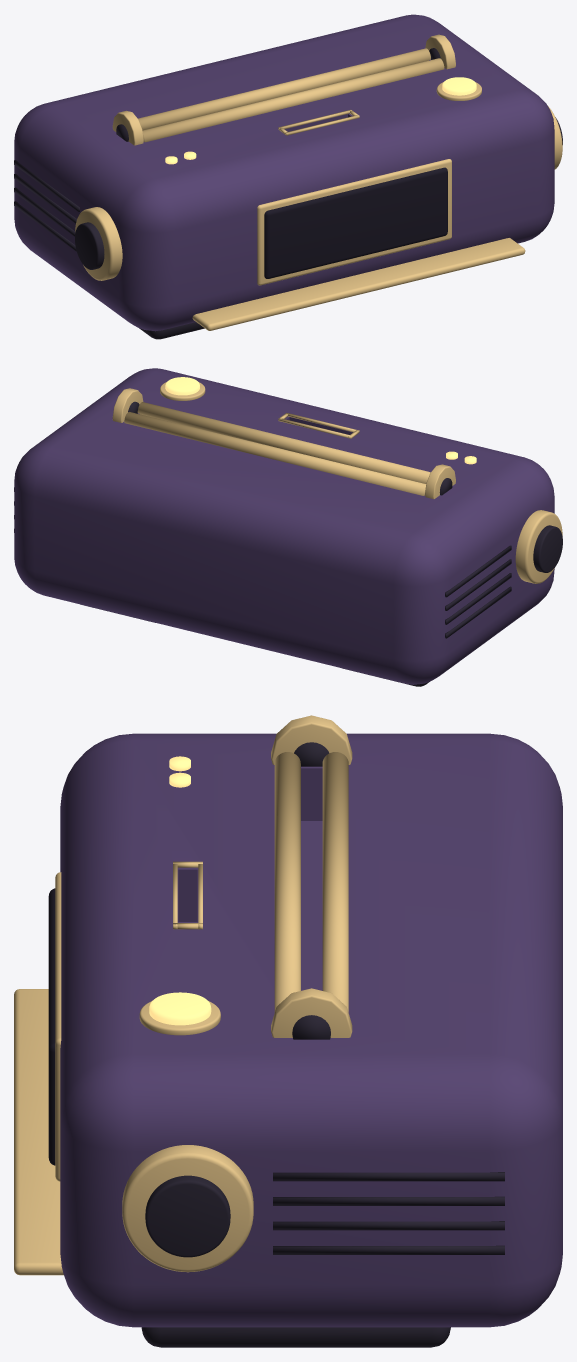
The model's file is printer.glb.
3 views of the same model, one above another, from view 1: azimuth 30°, elevation 25°; view 2: azimuth 150°, elevation 25°; view 3: azimuth 270°, elevation 25° (orthographic). The views are drawn at different scales.
Parts seen in each view (by area): view 1: body, face_panel, lip, roller_-0.62, roller_0.62, face_rim, knob_-1, knob_cap_-1, sprocket_-1, sprocket_1, button, foot_-1 (+1 smaller); view 2: body, roller_0.62, roller_-0.62, knob_-1, knob_cap_-1, sprocket_-1, sprocket_1, button, vent_-1_0, vent_-1_1, vent_-1_3, vent_-1_2; view 3: body, lip, knob_1, roller_0.62, roller_-0.62, foot_1, knob_cap_1, sprocket_1, vent_1_0, vent_1_2, sprocket_-1, face_panel (+6 smaller).
Part boxes in pixels (left/top/right/bottom): body: left=14, top=14, right=554, bottom=331; face_panel: left=264, top=167, right=447, bottom=278; lip: left=192, top=238, right=525, bottom=330; roller_-0.62: left=138, top=48, right=430, bottom=130; roller_0.62: left=142, top=58, right=444, bottom=142; face_rim: left=257, top=159, right=451, bottom=285; knob_-1: left=75, top=207, right=122, bottom=280; knob_cap_-1: left=75, top=222, right=104, bottom=269; sprocket_-1: left=112, top=110, right=143, bottom=145; sprocket_1: left=425, top=34, right=455, bottom=69; button: left=442, top=77, right=476, bottom=95; foot_-1: left=139, top=322, right=204, bottom=339; body: left=14, top=368, right=554, bottom=684; roller_0.62: left=137, top=402, right=430, bottom=483; roller_-0.62: left=124, top=412, right=426, bottom=495; knob_-1: left=515, top=510, right=562, bottom=583; knob_cap_-1: left=533, top=525, right=562, bottom=572; sprocket_-1: left=425, top=464, right=455, bottom=498; sprocket_1: left=112, top=388, right=143, bottom=422; button: left=165, top=377, right=199, bottom=395; vent_-1_0: left=445, top=545, right=511, bottom=597; vent_-1_1: left=445, top=559, right=511, bottom=610; vent_-1_3: left=445, top=586, right=511, bottom=638; vent_-1_2: left=445, top=573, right=511, bottom=624; body: left=60, top=733, right=562, bottom=1327; lip: left=14, top=989, right=63, bottom=1275; knob_1: left=122, top=1145, right=253, bottom=1272; roller_0.62: left=274, top=752, right=300, bottom=1012; roller_-0.62: left=322, top=752, right=348, bottom=1011; foot_1: left=141, top=1327, right=450, bottom=1347; knob_cap_1: left=145, top=1175, right=230, bottom=1257; sprocket_1: left=271, top=988, right=352, bottom=1037; vent_1_0: left=273, top=1172, right=504, bottom=1181; vent_1_2: left=273, top=1221, right=504, bottom=1230; sprocket_-1: left=271, top=715, right=352, bottom=764; face_panel: left=48, top=888, right=55, bottom=1165.
Bounding box in the file's own units: 24.9 × 9.8 × 14.2.
